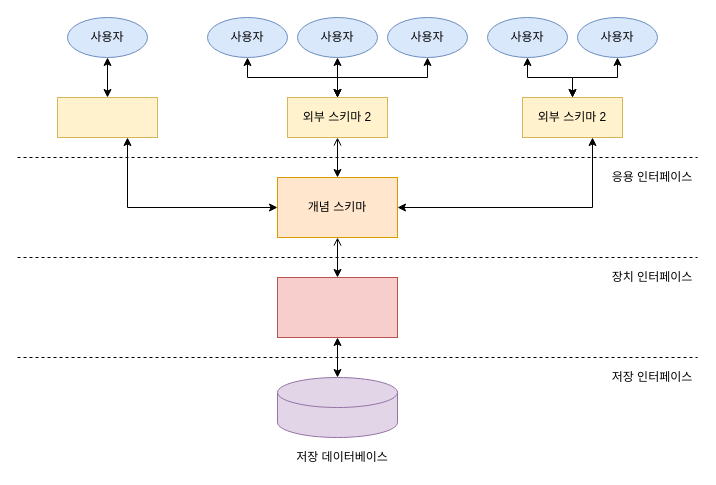
This 716x485 diagram has some shape labels left out. Each missing label, with the centre of its shape:
내부 스키마: point 337,307
외부 스키마 1: point 107,117
